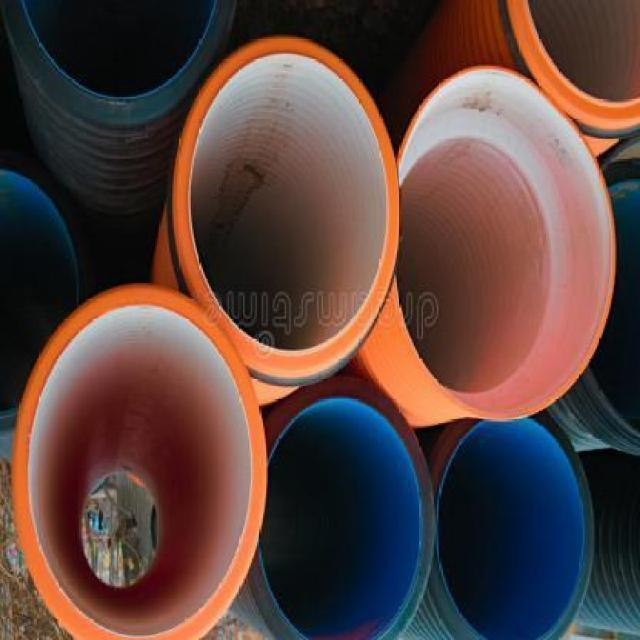pipe: (11, 283, 268, 639), (396, 65, 617, 422), (174, 37, 400, 379), (247, 380, 436, 639), (425, 410, 594, 639), (1, 2, 237, 131), (2, 166, 76, 422), (511, 3, 639, 125)
